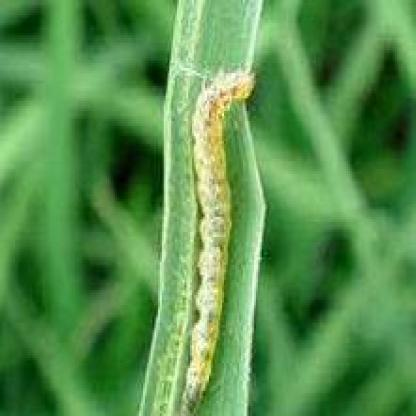leaf-folder: (152, 34, 265, 416)
